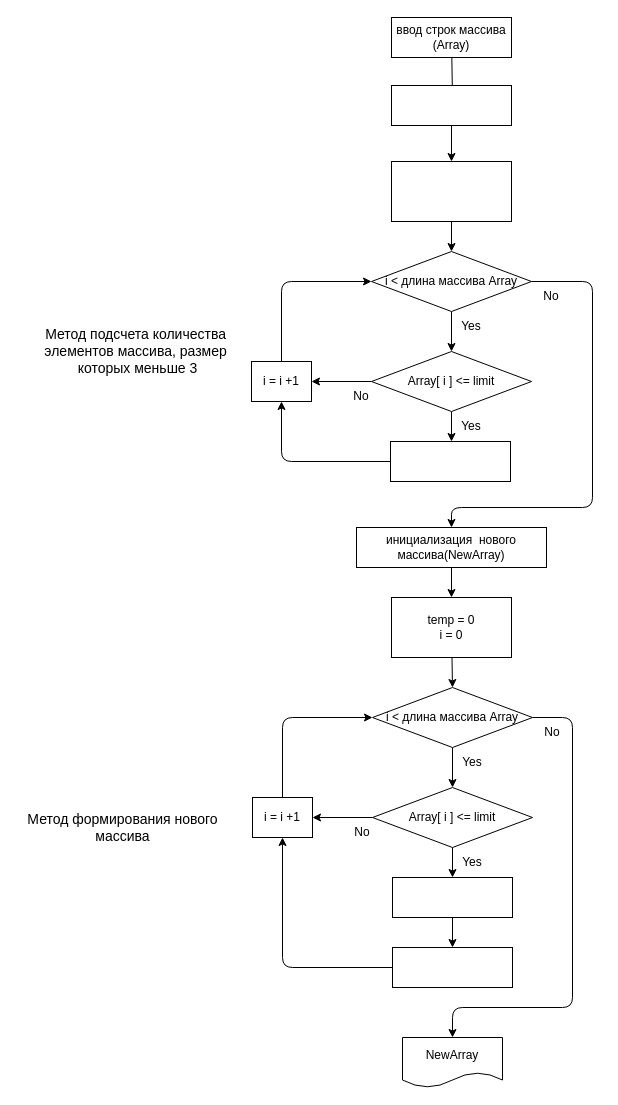
This 618x1105 diagram has some shape labels left out. Each missing label, with the centre of its shape:
"limit = 3" belongs at pixel 451 105.
"N = N +1" belongs at pixel 450 461.
"N= 0 i = 0" belongs at pixel 451 191.
"NewArray[ temp] = array[ i ]" belongs at pixel 452 897.
"temp = temp +1" belongs at pixel 452 967.
